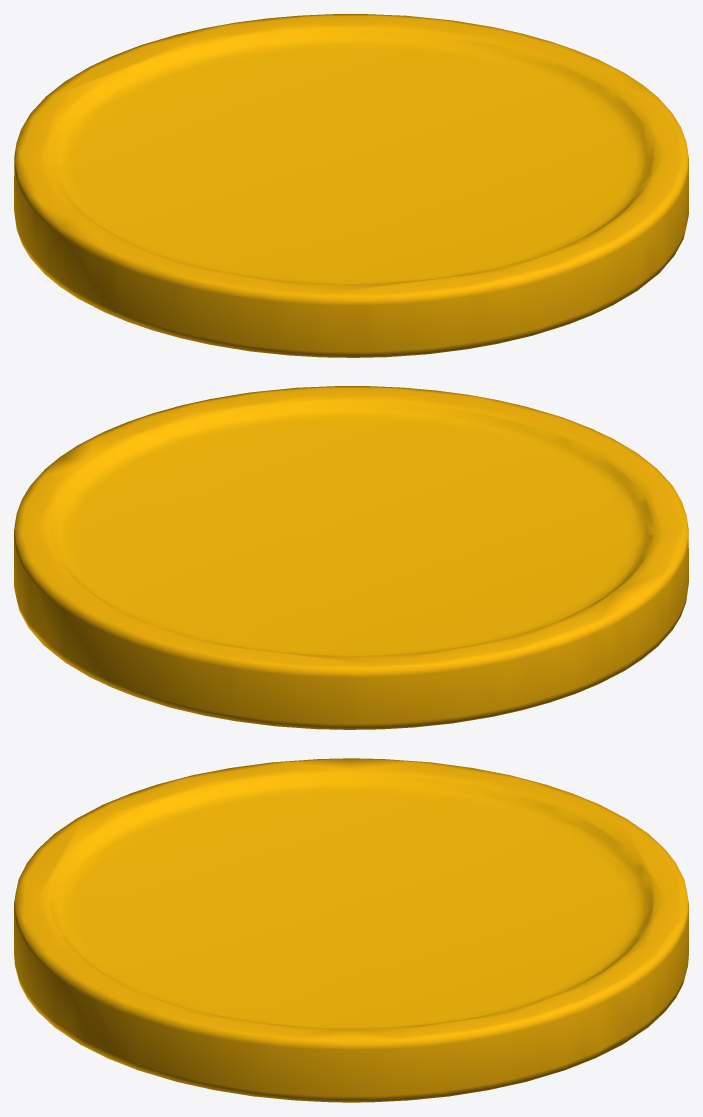
The picture shows the model from 3 angles, top to bottom: view 1: azimuth 30°, elevation 25°; view 2: azimuth 150°, elevation 25°; view 3: azimuth 270°, elevation 25°; orthographic projection.
Visible parts, largest first — view 1: CoinDecimate_0; view 2: CoinDecimate_0; view 3: CoinDecimate_0.
Boxes of the visible parts, x1,y1,x2,y2 form: CoinDecimate_0: (14, 14, 688, 357); CoinDecimate_0: (14, 386, 688, 729); CoinDecimate_0: (14, 758, 688, 1102).
Bounding box in the file's own units: 1.99 × 0.2001 × 1.99.
